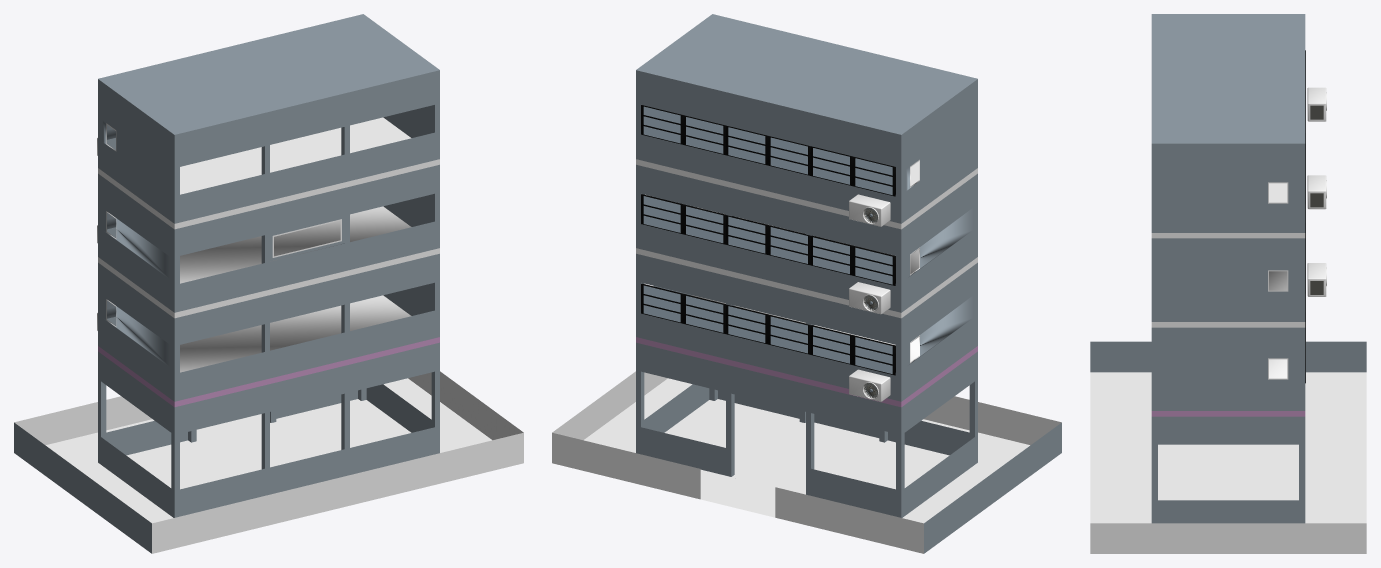
The model's file is BUILD 3.fbx.
3 views of the same model, side by side, from view 1: azimuth 30°, elevation 25°; view 2: azimuth 150°, elevation 25°; view 3: azimuth 270°, elevation 25° (orthographic).
Parts seen in each view (by area): view 1: Null_1; view 2: Null_1; view 3: Null_1.
Part boxes in pixels (x1,y1,x2,y2): Null_1: [14, 14, 523, 553]; Null_1: [552, 14, 1061, 553]; Null_1: [1090, 14, 1366, 553].
Bounding box in the file's own units: 1400 × 1400 × 900.
